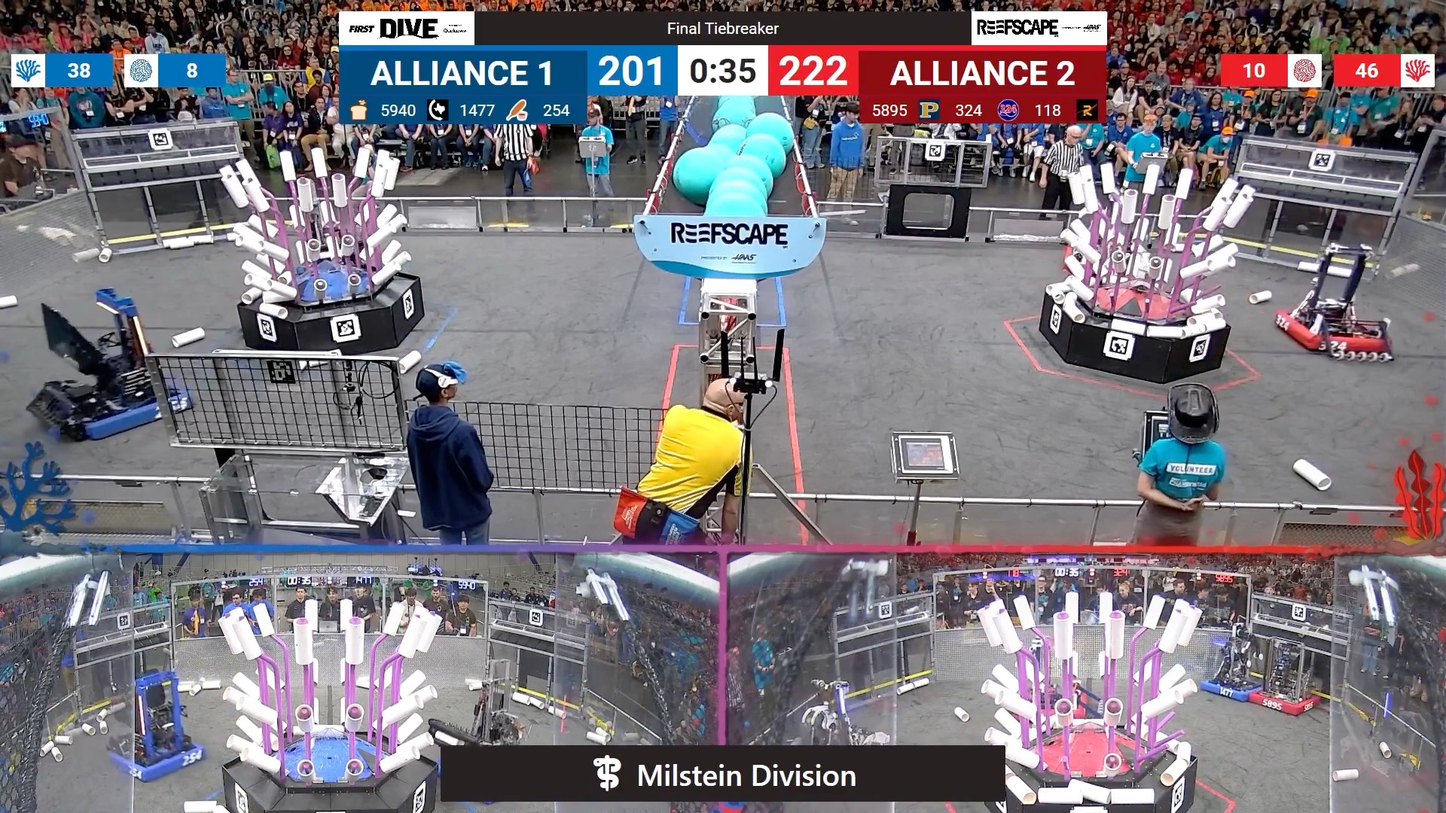bumpers: (35, 376, 186, 446), (1264, 307, 1399, 369), (105, 736, 217, 787), (1242, 684, 1326, 719), (1193, 674, 1270, 702)
